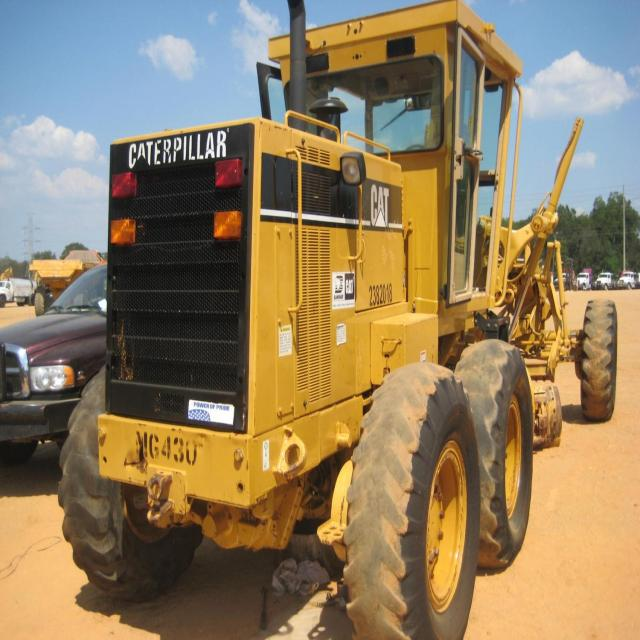Grader: (73, 6, 633, 639)
